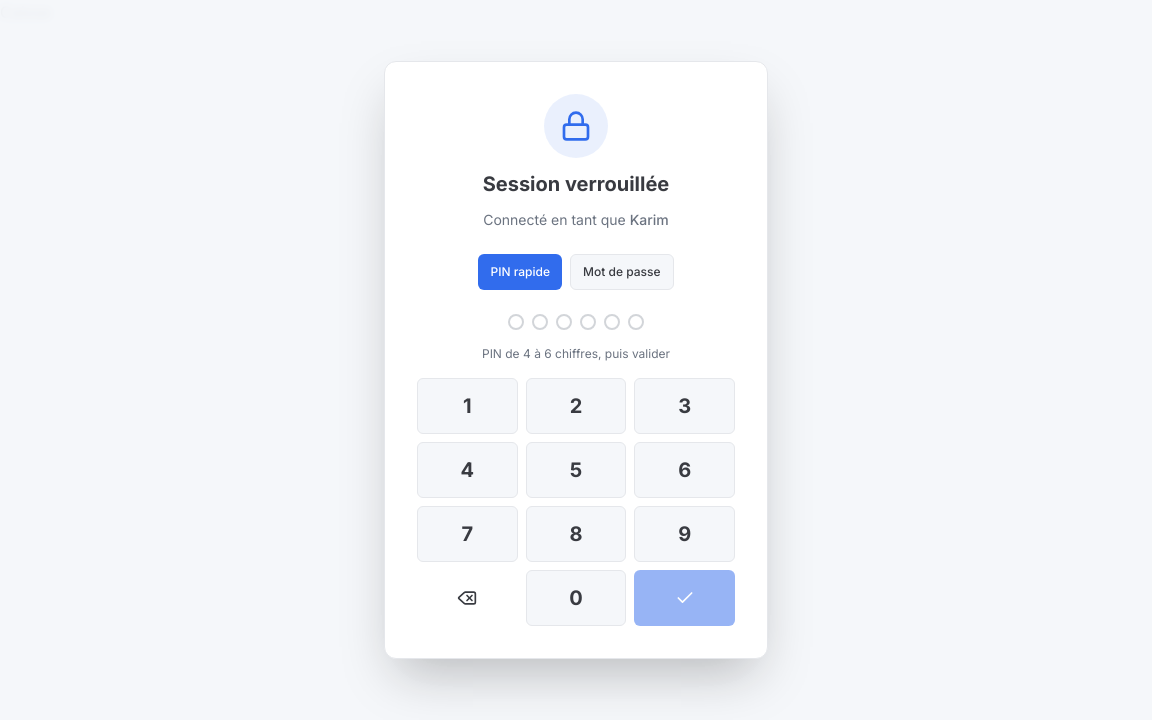
Test: IdleLock › shows the lockout message from the backend
expect the heading "Session verrouillée" is shown: met, box [483,170,669,198]
Click the button "4" at (467, 470), box [417,442,518,498]
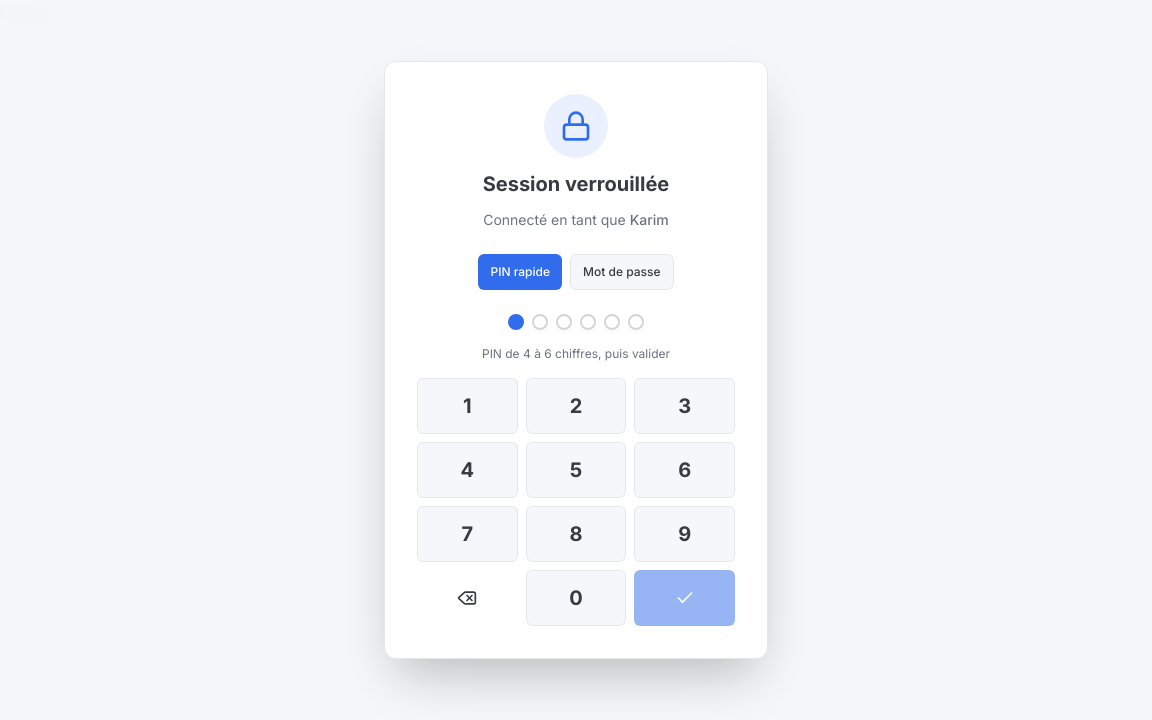
Click the button "8" at (576, 534), box [526,506,626,562]
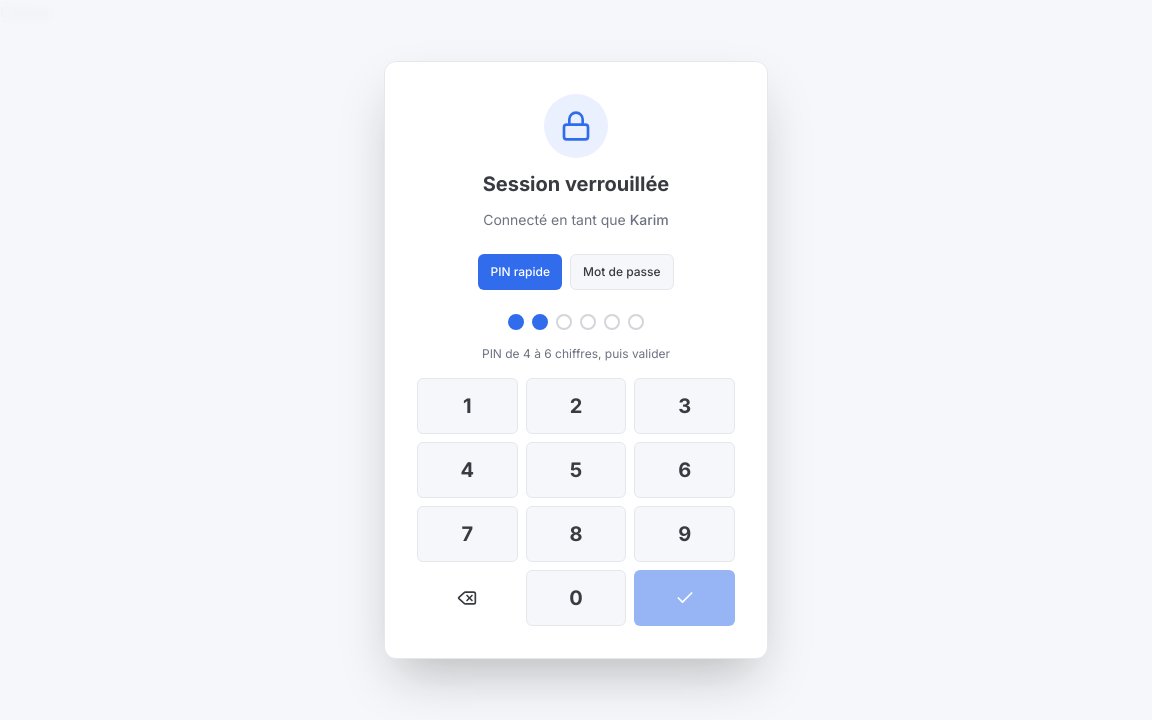
Click the button "2" at (576, 406), box [526,378,626,434]
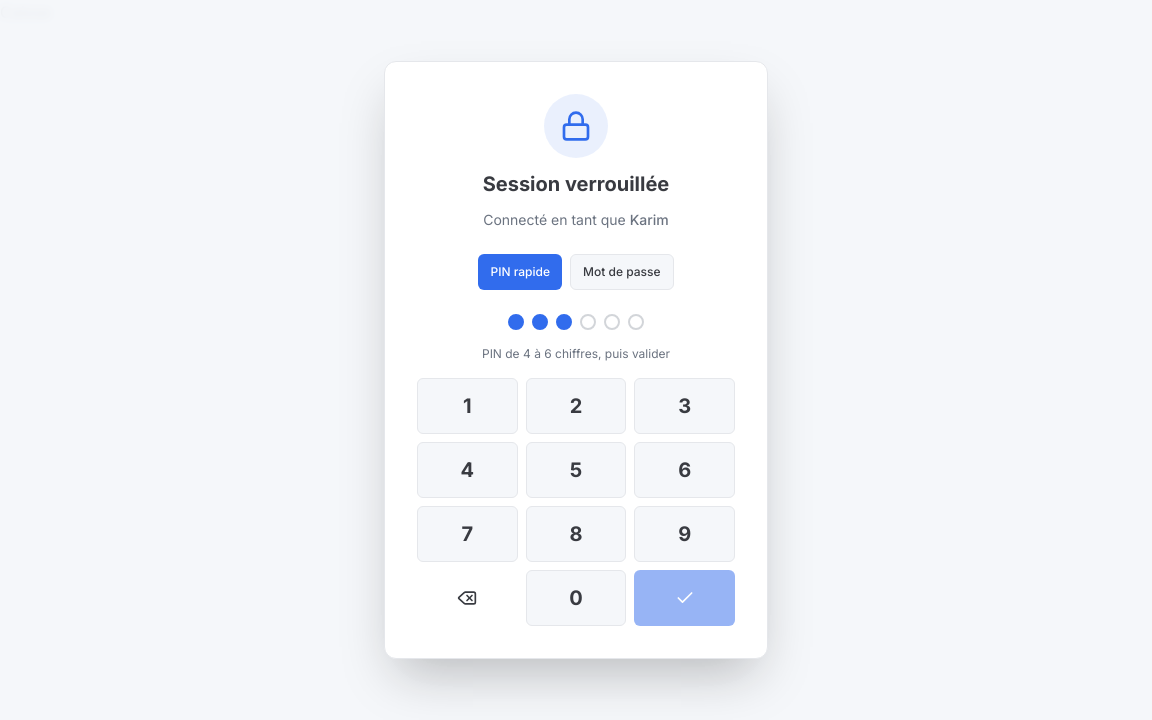
Click the button "6" at (685, 470), box [634,442,735,498]
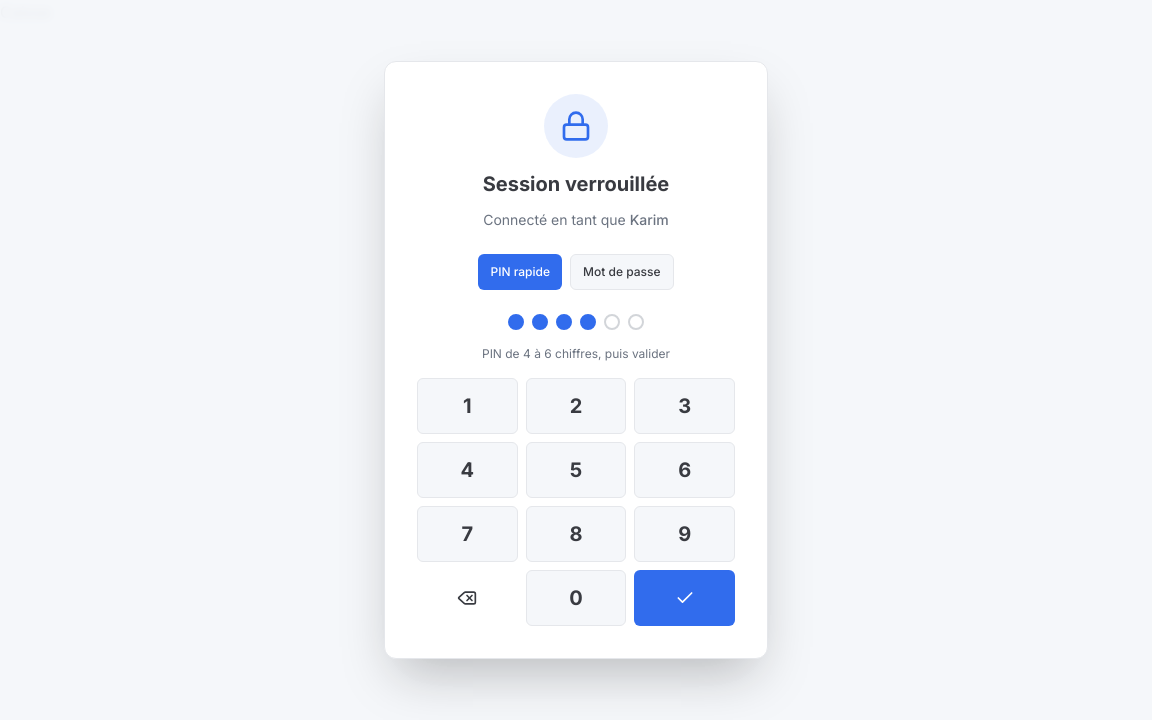
Click the button named "Valider le PIN" at (685, 598), box [634,570,735,626]
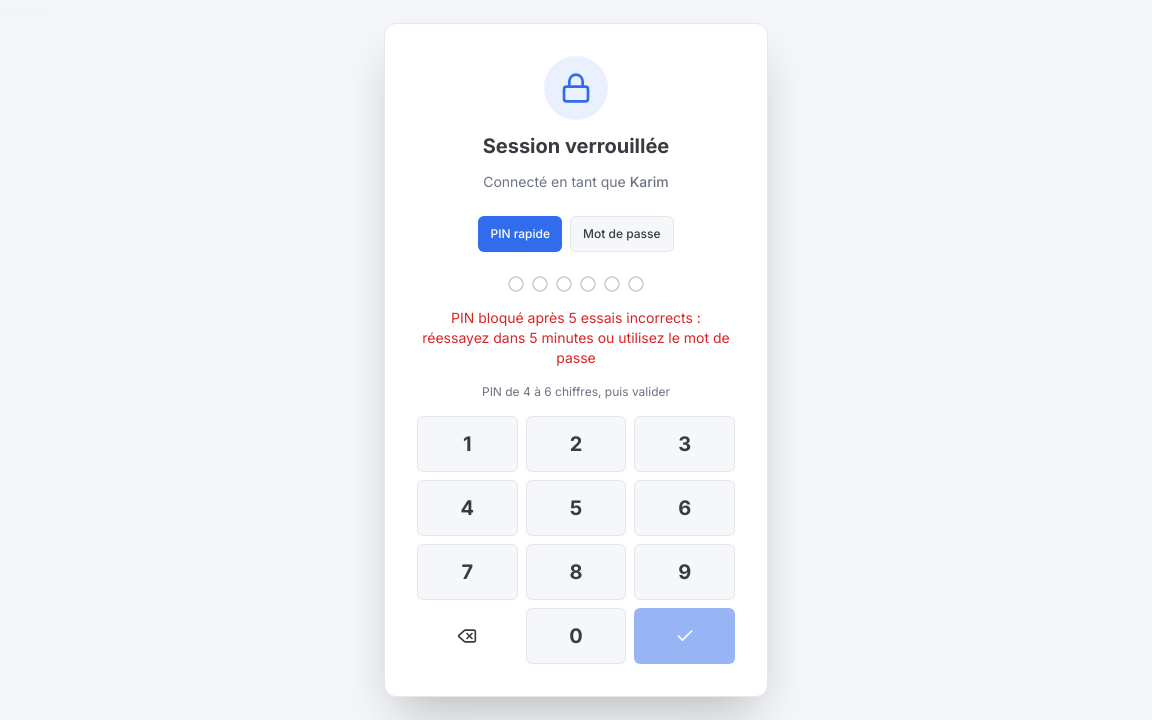
expect the text "PIN bloqué" is shown: met, box [422,309,730,366]
